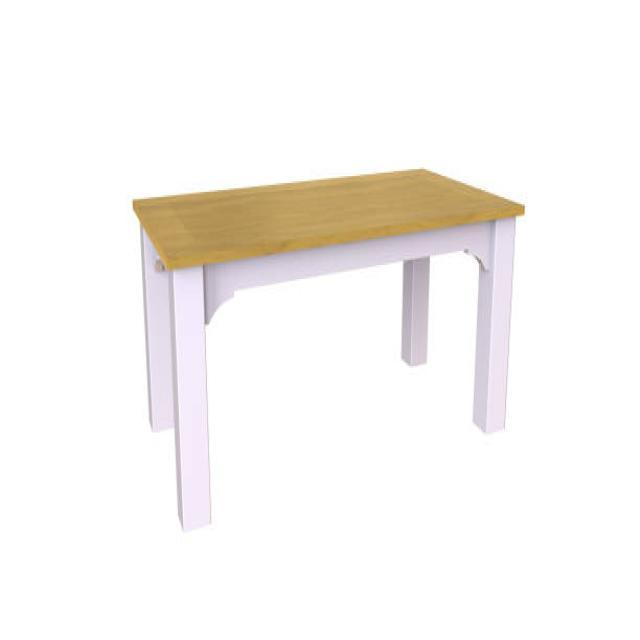table: (132, 165, 525, 530)
